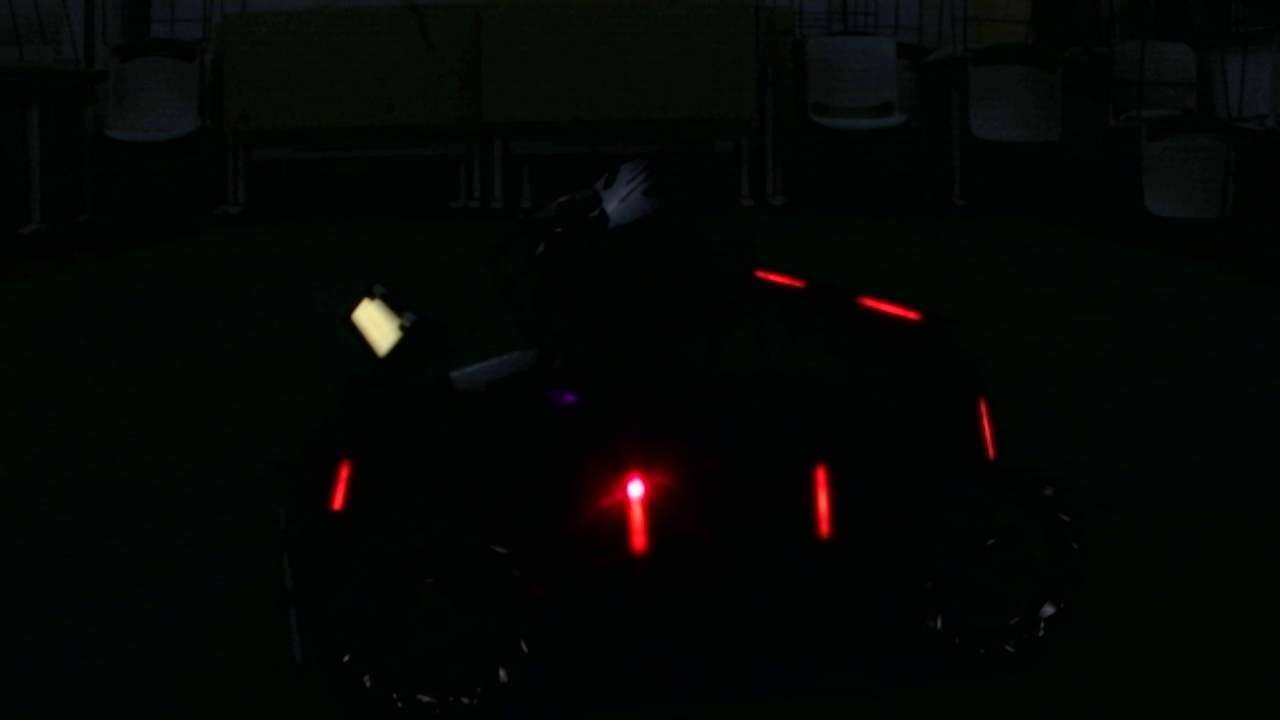lamp: (622, 458, 644, 558), (321, 461, 358, 513), (811, 461, 832, 552)
notpair1: (322, 461, 645, 557)
pair1: (622, 463, 831, 556)
